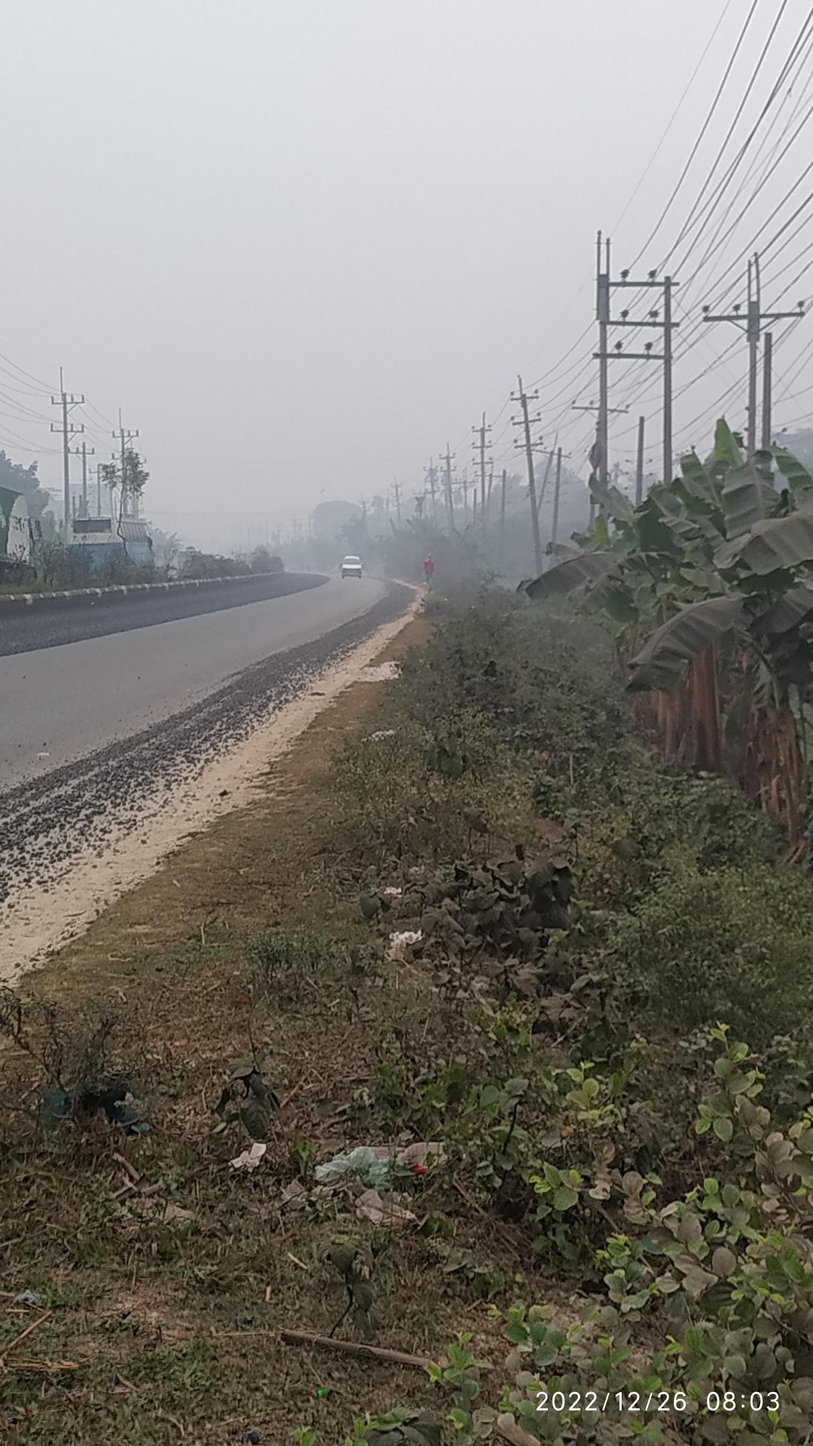Bus: (61, 504, 175, 593)
Car: (336, 548, 369, 589)
Truck: (3, 479, 60, 608)
